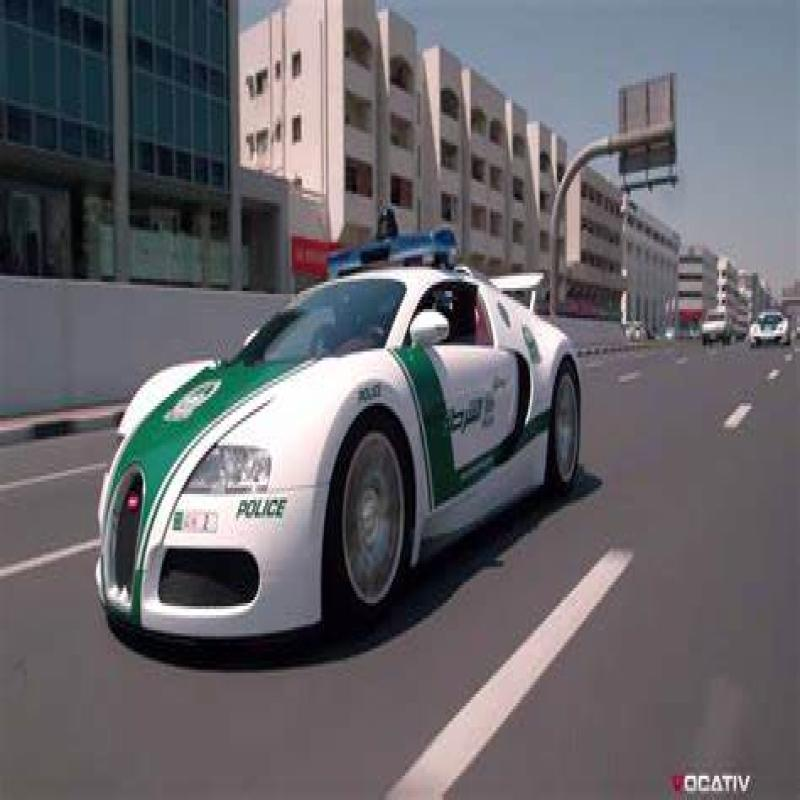AmbulanceSiren: (317, 215, 468, 278)
